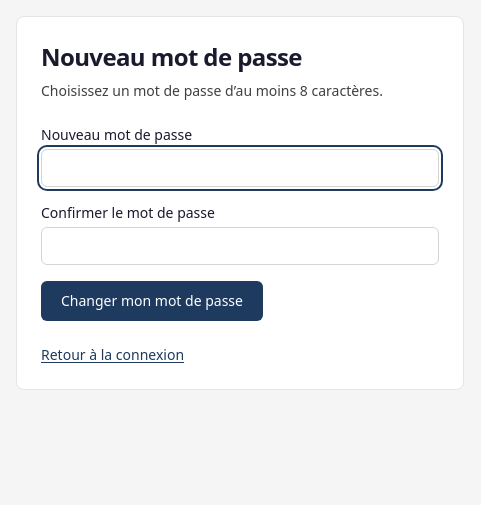
Test: /reinitialiser-mot-de-passe › REFUSE un mot de passe trop court SANS APPELER LE BACKEND
Type "court" into the password field labelled "Nouveau mot de passe" at (240, 168), box [41, 149, 439, 187]
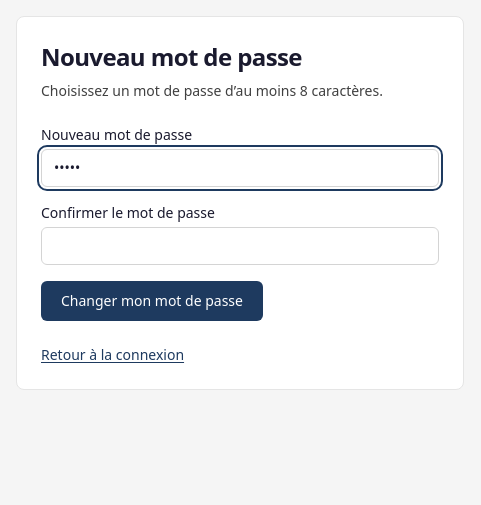
Type "court" into the password field labelled "Confirmer le mot de passe" at (240, 246), box [41, 227, 439, 265]
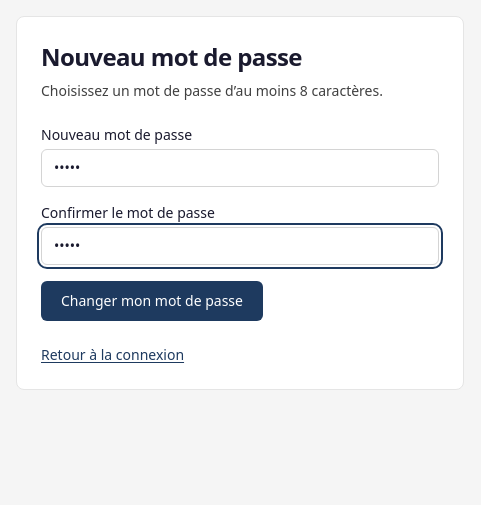
Click the button "Changer mon mot de passe" at (152, 301), box [41, 281, 263, 321]
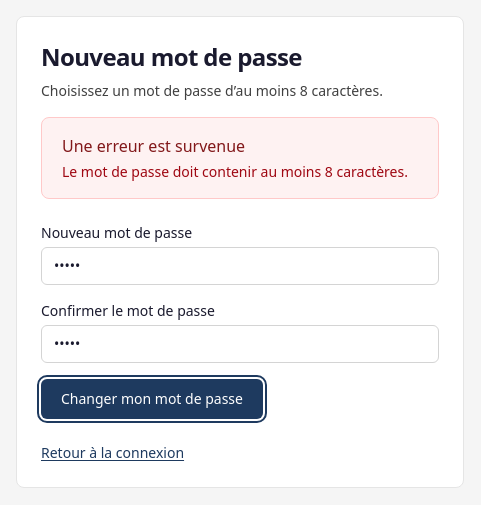
Now the message "Une erreur est survenue Le mot de passe doit contenir au moins 8 caractères." is shown, box [41, 117, 439, 199]
